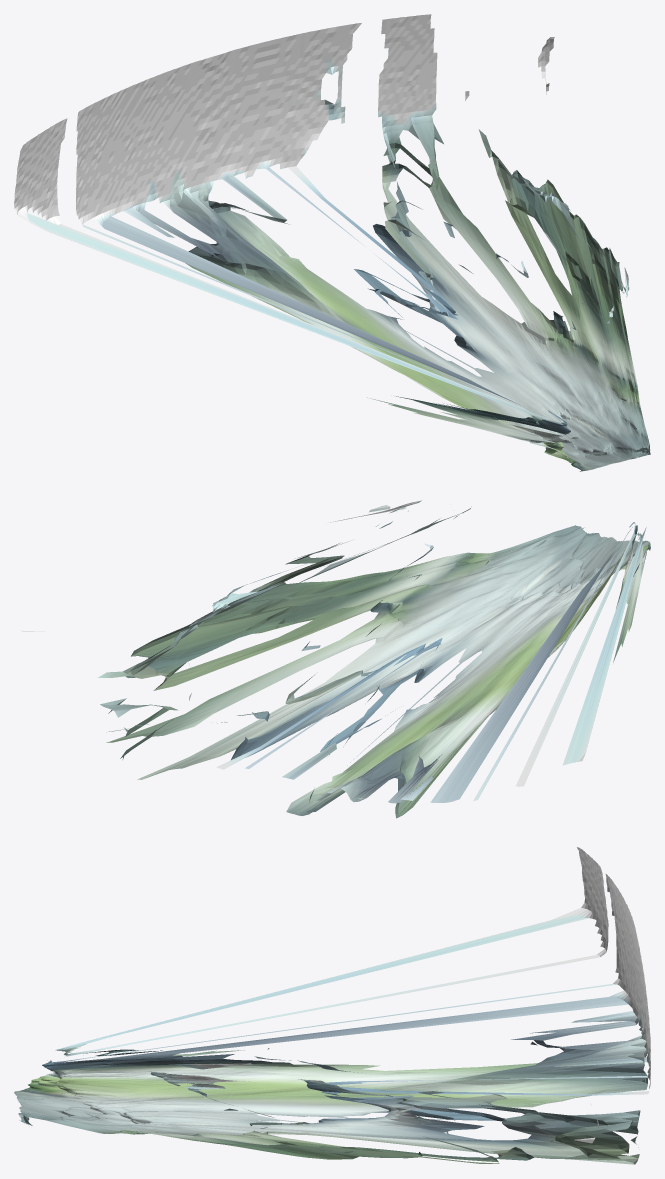
3 renders of one model, top to bottom at view 1: azimuth 30°, elevation 25°; view 2: azimuth 150°, elevation 25°; view 3: azimuth 270°, elevation 25°, orthographic. The views are drawn at different scales.
Parts seen in each view (by area): view 1: defaultobject; view 2: defaultobject; view 3: defaultobject.
Boxes of the visible parts, box(x1,y1,x2,y2) form: defaultobject: box(14, 14, 650, 471); defaultobject: box(21, 500, 650, 818); defaultobject: box(14, 847, 650, 1164).
Bounding box in the file's own units: 39.09 × 13.96 × 44.68.
Materials: 1 (1 with a texture image).
